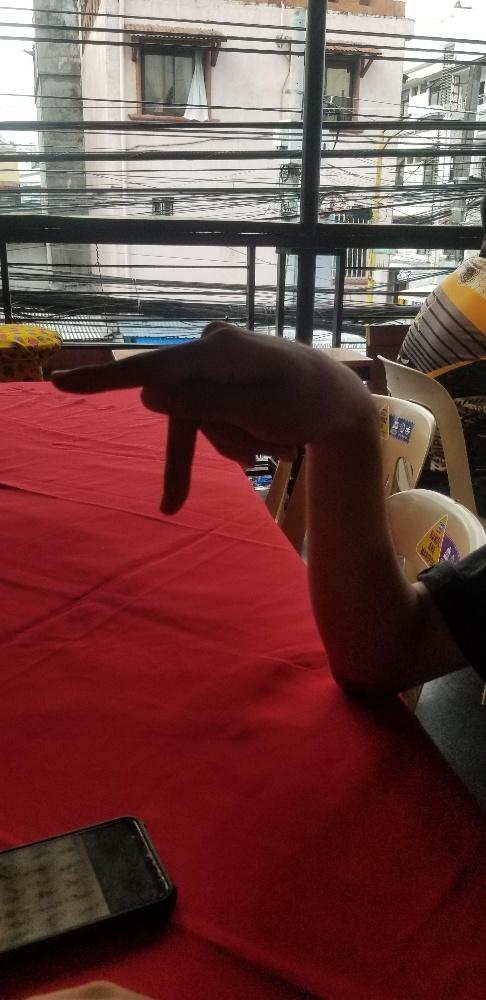p: (41, 315, 355, 516)
